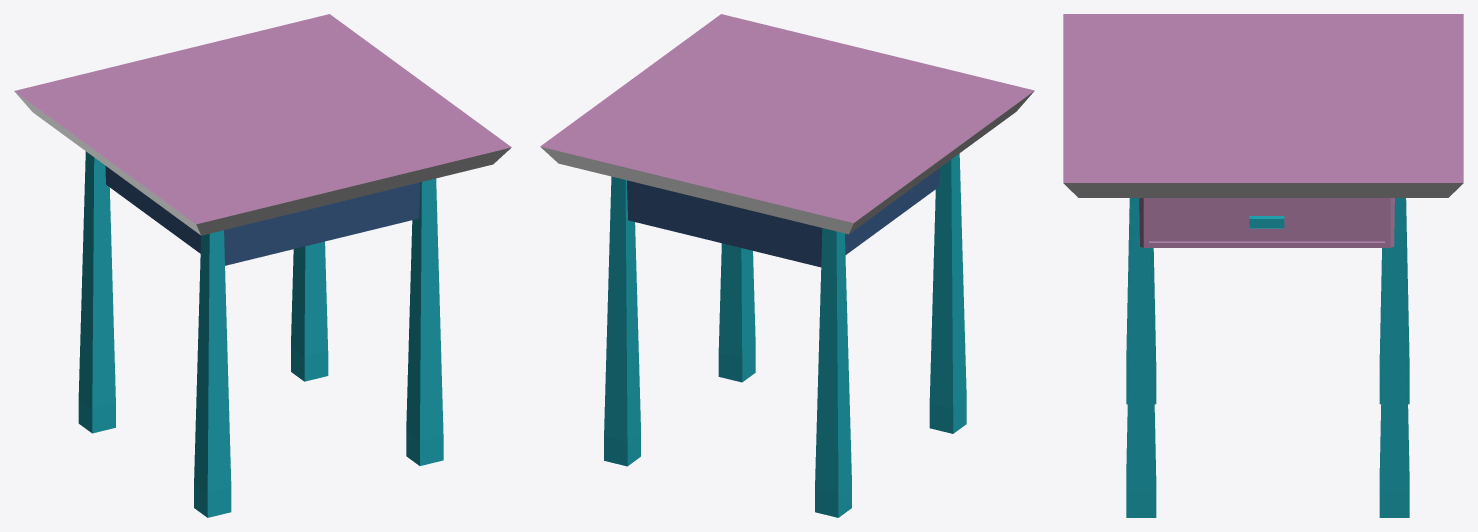
The picture shows the model from 3 angles, left to right: view 1: azimuth 30°, elevation 25°; view 2: azimuth 150°, elevation 25°; view 3: azimuth 270°, elevation 25°; orthographic projection. The views are drawn at different scales.
Visible parts, largest first — view 1: table top.001, legs left, legs right, drawer box, table top; view 2: table top.001, legs right, legs left, drawer box, table top; view 3: table top.001, drawer, legs right, legs left, table top, handle.
Boxes of the visible parts, <box> form: table top.001: <box>14,14,511,224</box>; legs left: <box>194,178,443,517</box>; legs right: <box>78,151,328,433</box>; drawer box: <box>105,166,420,265</box>; table top: <box>14,91,510,235</box>; table top.001: <box>540,14,1034,222</box>; legs right: <box>604,176,851,517</box>; legs left: <box>718,153,966,433</box>; drawer box: <box>627,168,939,267</box>; table top: <box>540,91,1033,234</box>; table top.001: <box>1063,14,1463,182</box>; drawer: <box>1139,198,1394,247</box>; legs right: <box>1379,198,1409,517</box>; legs left: <box>1126,198,1156,517</box>; table top: <box>1063,183,1463,197</box>; handle: <box>1249,216,1284,228</box>.
Size of the model in its own units: 200 by 196 by 200.
